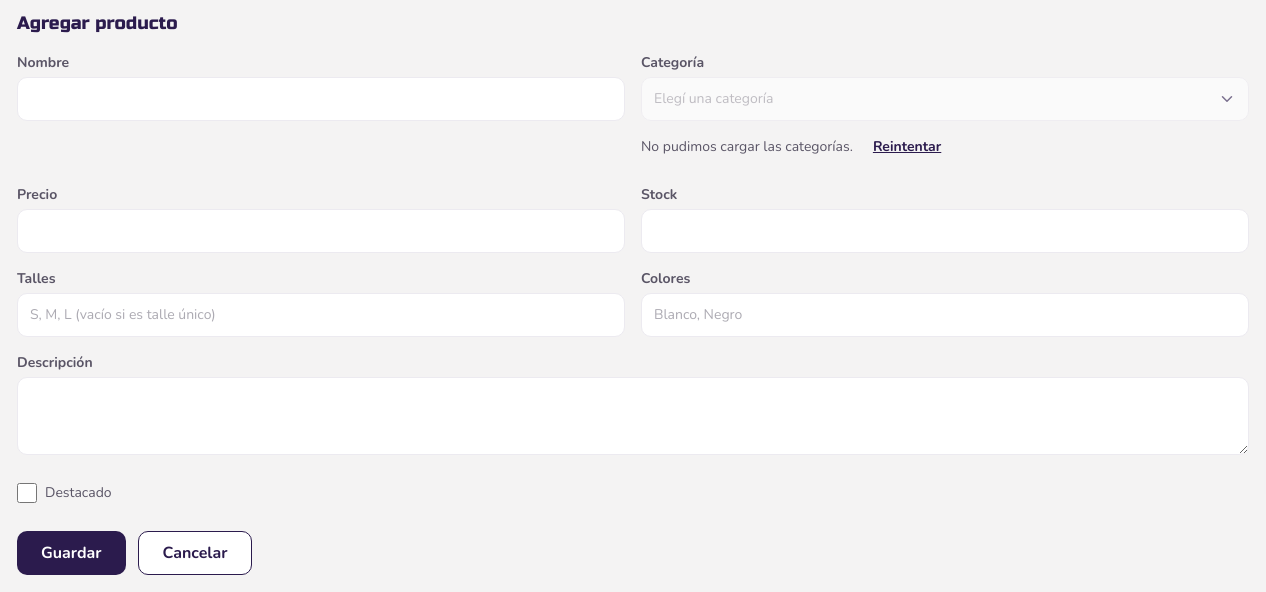
Test case: FormularioProducto › muestra la carga y el error de las categorías con reintento
Expected: the text "Cargando categorías del catálogo" is shown, left=654, top=89, right=773, bottom=109
Expected: the dropdown labelled "categoría" is disabled, left=641, top=77, right=1249, bottom=121
Step 1. Click the button "Reintentar" → (907, 147), box left=861, top=125, right=953, bottom=169
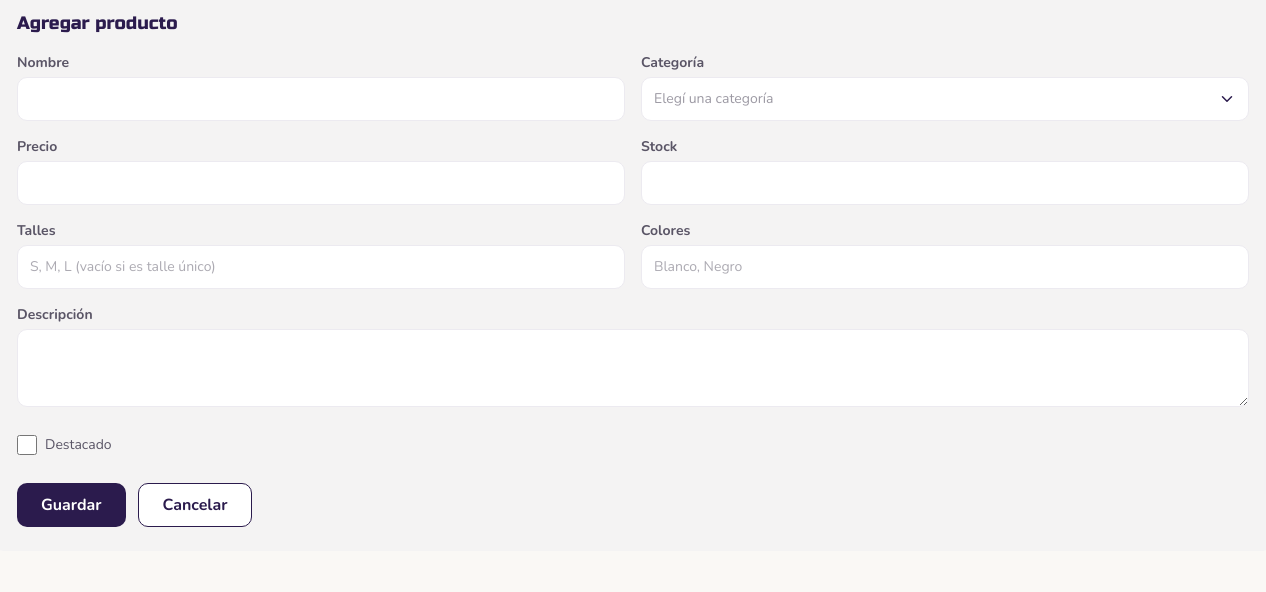
Expected: the dropdown labelled "categoría" is enabled, left=641, top=77, right=1249, bottom=121
Expected: the text "No pudimos cargar las categorías." is gone
